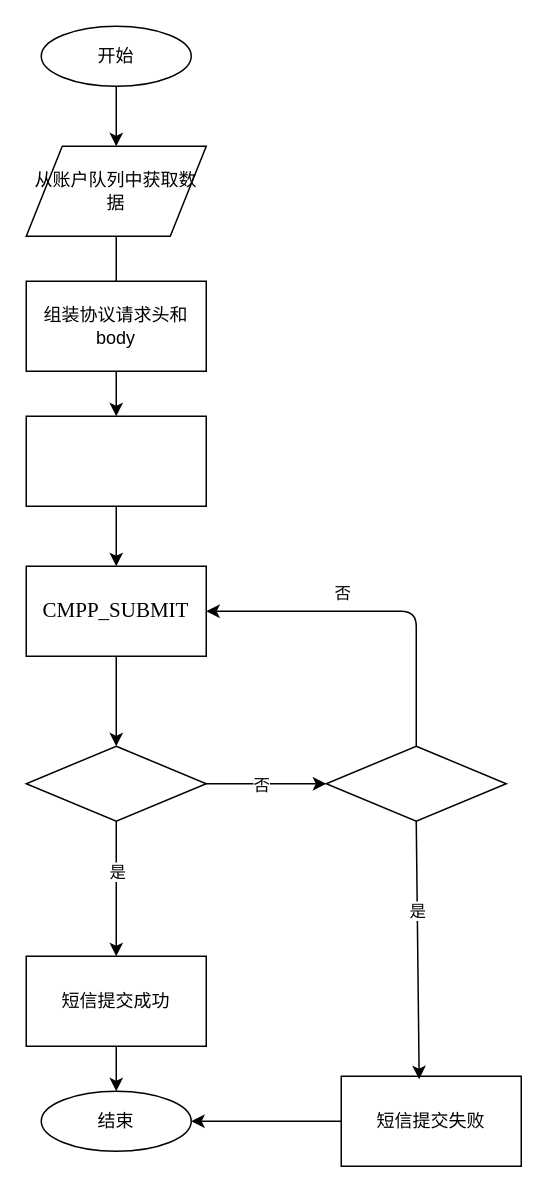
This 548x1193 diagram has some shape labels left out. Each missing label, with the centre of its shape:
"CMPP­_SUBMIT _RESP 是否在T内返回" goes at [115,783].
"根据W和流速限制控制提交速度" goes at [115,460].
"重试超过N-1" goes at [415,783].
